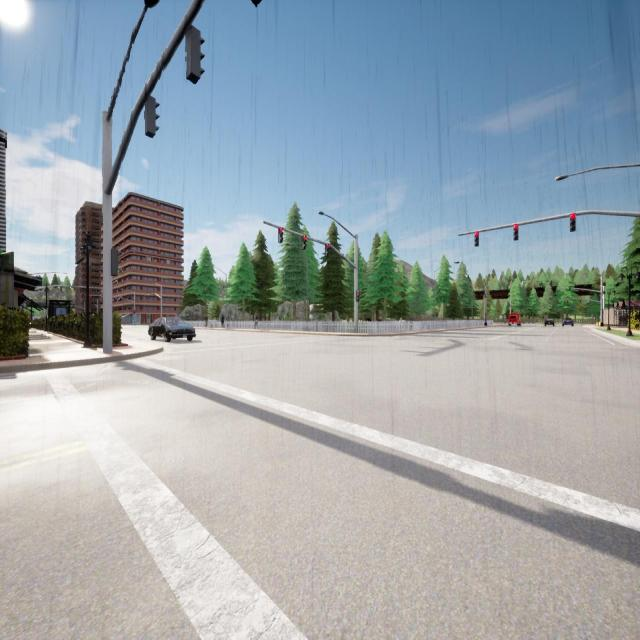Pedestrian: (255, 312, 259, 329), (221, 313, 225, 328), (205, 316, 208, 328)
Traffic_Signs: (499, 315, 502, 319)
Vehicle: (148, 317, 196, 341), (509, 313, 520, 326), (562, 318, 574, 326), (545, 319, 554, 326)
traffic_light: (186, 26, 205, 84), (146, 96, 160, 138), (111, 249, 118, 275), (570, 214, 575, 231), (514, 224, 518, 240), (278, 228, 282, 242), (474, 232, 478, 246), (302, 236, 306, 249), (326, 243, 330, 256), (356, 291, 359, 301), (90, 295, 92, 298), (101, 296, 103, 299), (134, 309, 135, 314), (569, 287, 570, 292), (556, 299, 558, 301), (567, 299, 568, 303), (580, 299, 581, 302), (115, 296, 116, 298)
